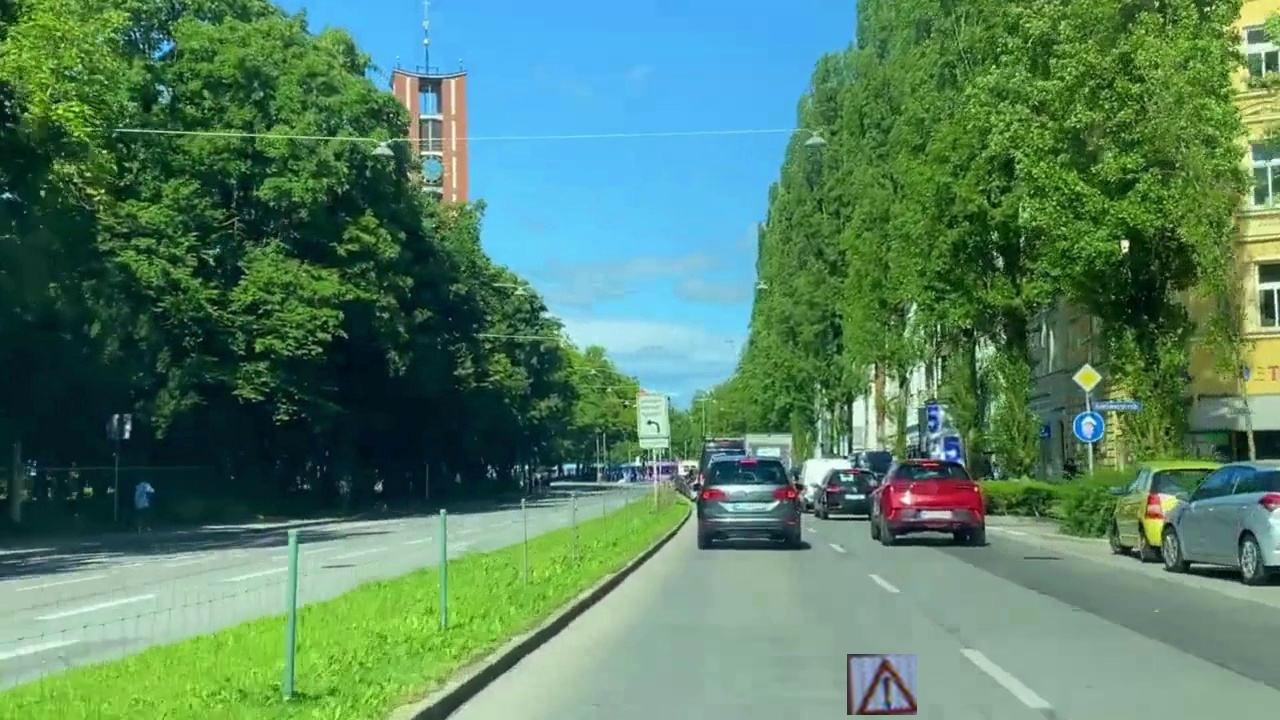Caution: (847, 654, 917, 715)
